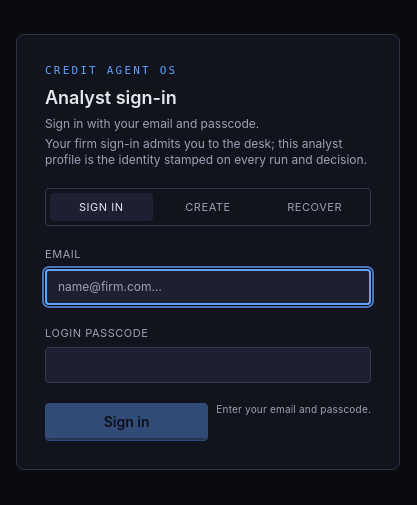
Test: LoginLanding › shows an API detail when sign-in is rejected
Type "a@b.test" into the field labelled "Email" at coordinates (208, 286), box x1=45 y1=268 x2=371 y2=304
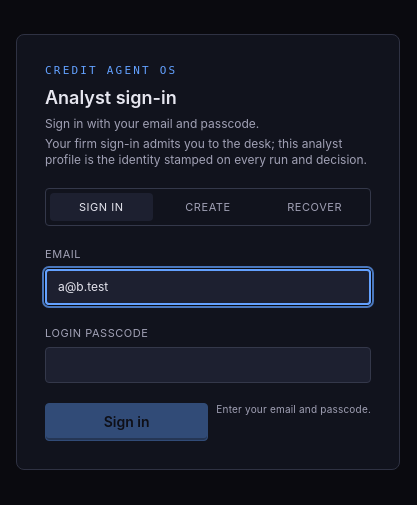
Type "x" into the password field labelled "Login passcode" at coordinates (208, 365), box x1=45 y1=347 x2=371 y2=383
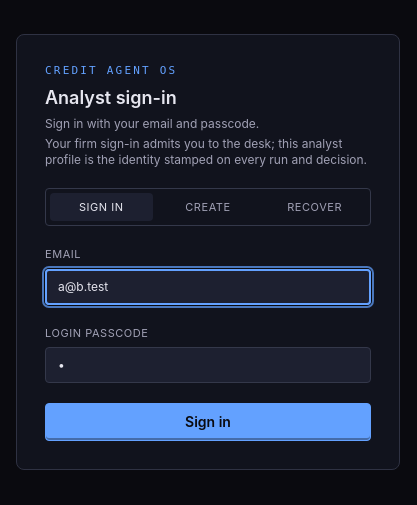
Click the button "Sign in" at coordinates (208, 422), box x1=45 y1=403 x2=371 y2=441
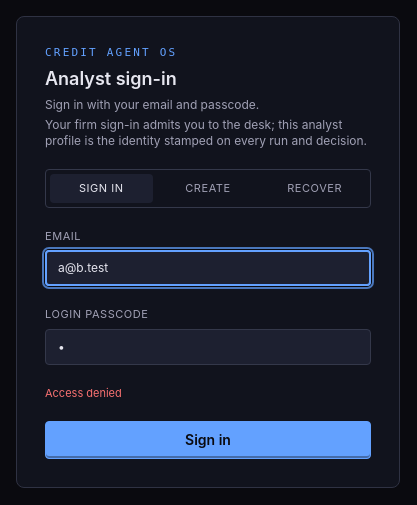
Expected: the message reads "Access denied", x1=45 y1=386 x2=122 y2=400
